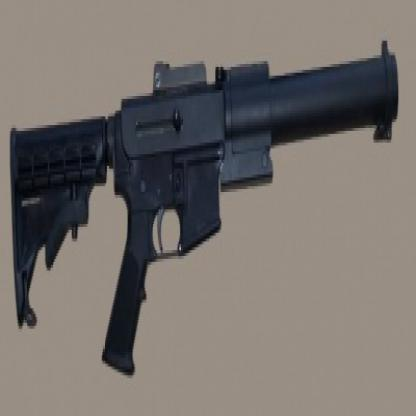Guns: (0, 0, 401, 385)
